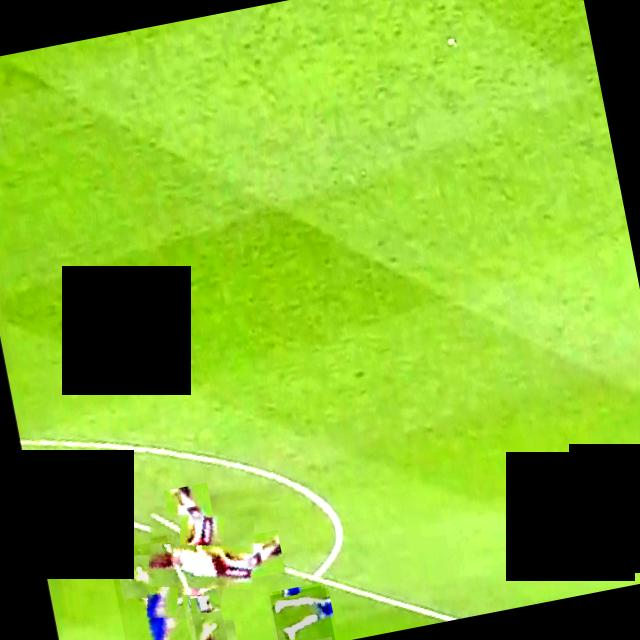soccer-player: (134, 500, 268, 634), (108, 538, 196, 640), (269, 585, 335, 640), (189, 593, 232, 640)
